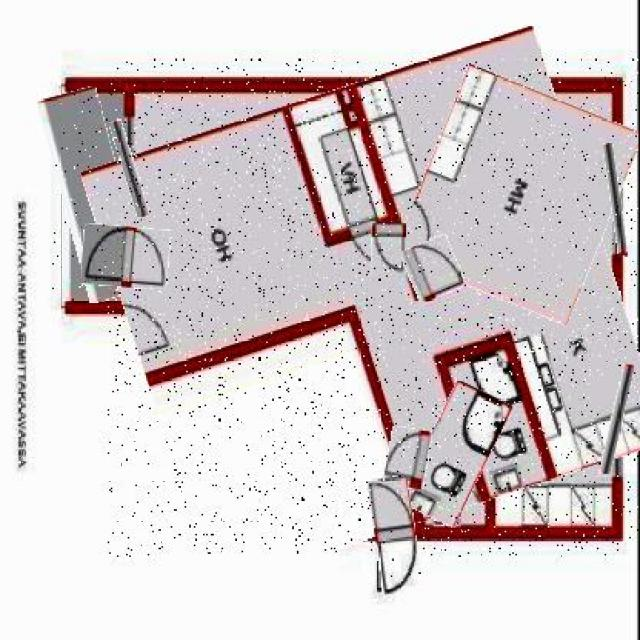door: (372, 476, 420, 596), (81, 225, 170, 288), (406, 238, 462, 300), (384, 428, 430, 489), (371, 223, 406, 275)
window: (604, 363, 628, 475), (117, 119, 141, 218), (608, 144, 624, 258)
zone: (107, 58, 638, 557), (409, 79, 628, 312), (51, 89, 135, 302), (411, 383, 500, 525)
